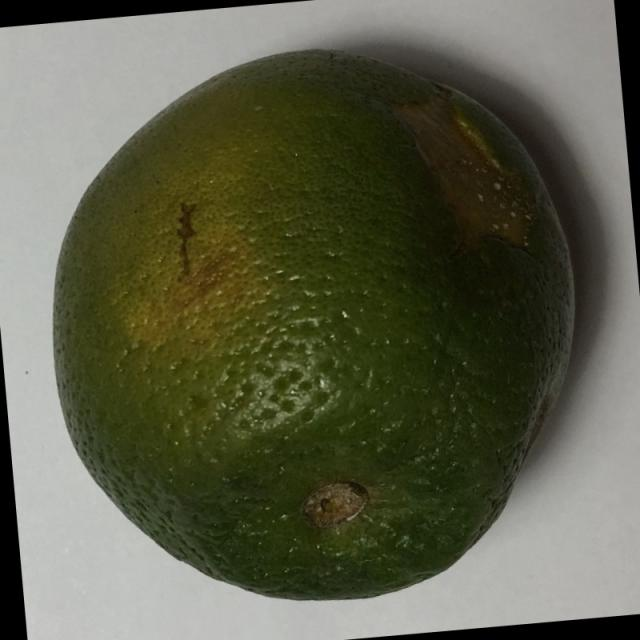canker: (24, 34, 609, 618)
